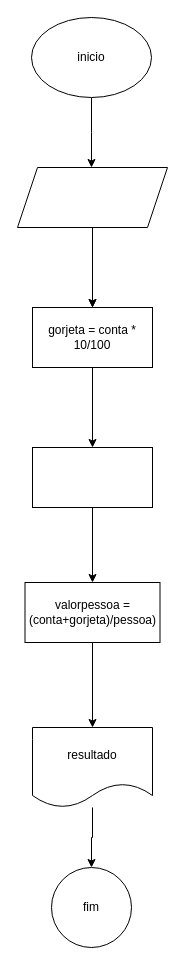
Image size: 185x965. Some labels were removed from this diagram. Here are the shapes that lost their labels. From the top down, the centre of each, then its label:
point 92,197: pessoas, gorjeta,conta
point 92,477: conta = (gorjeta+conta)
